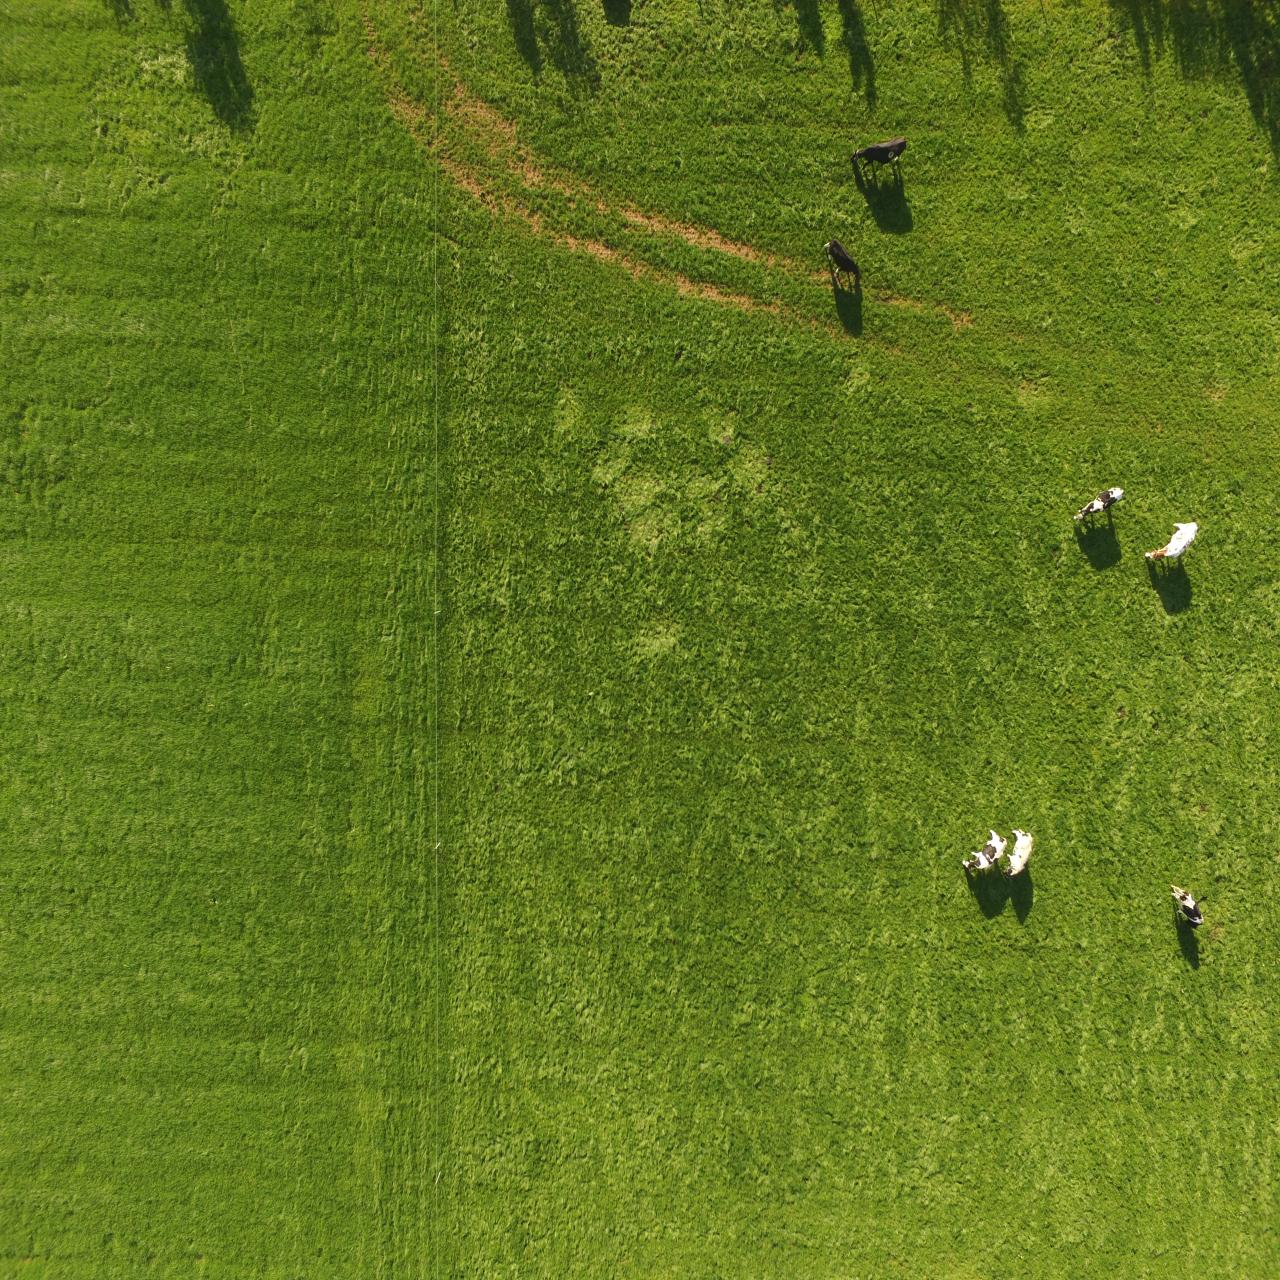cow: (1062, 474, 1135, 530), (1167, 877, 1221, 948), (817, 226, 871, 294), (1137, 519, 1201, 572), (961, 826, 1008, 881), (847, 130, 908, 172), (999, 817, 1036, 885)
